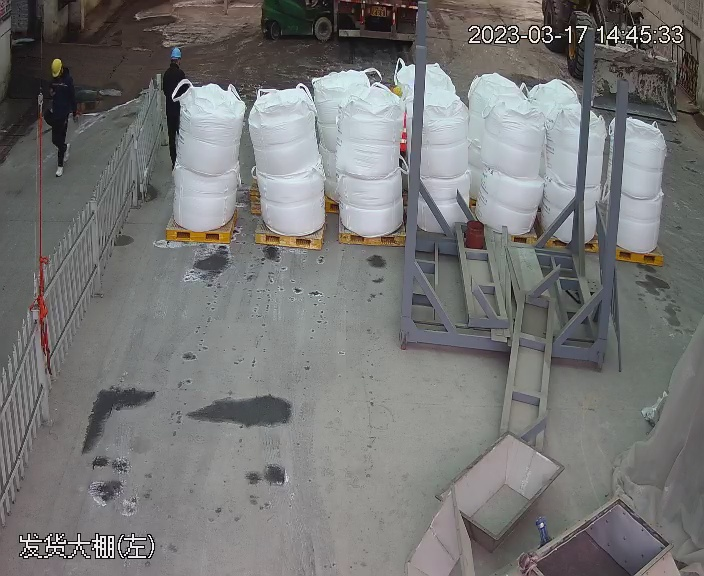head: (42, 57, 75, 95), (161, 45, 187, 80)
helmet: (48, 57, 64, 77), (168, 46, 183, 59)
people: (38, 57, 79, 172), (157, 44, 191, 170)
truck: (264, 1, 423, 42)
